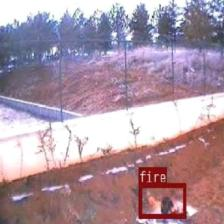fire: (138, 182, 185, 218)
